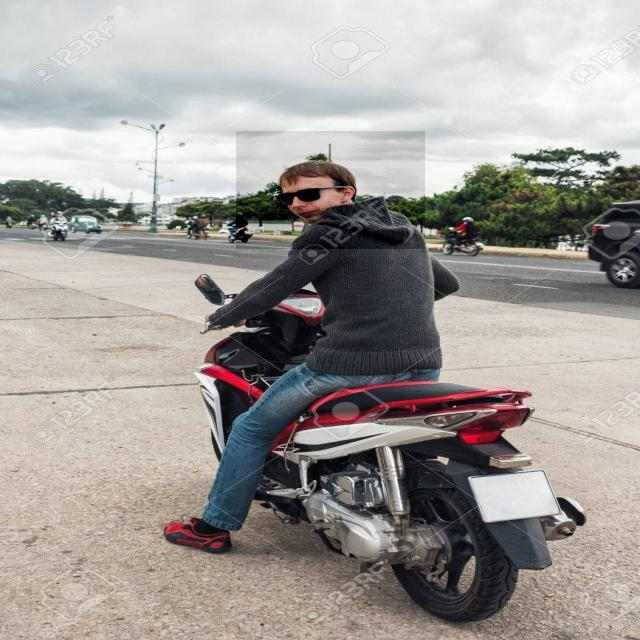No_Helmet: (236, 132, 425, 250)
